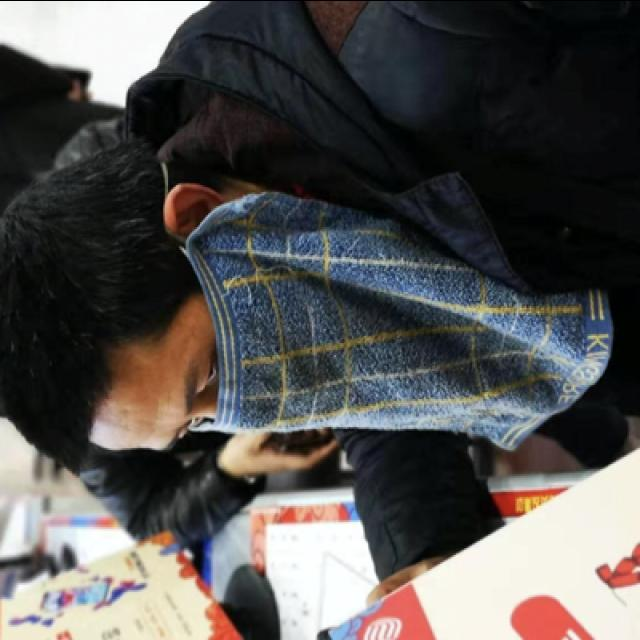mask: (160, 237, 360, 450)
